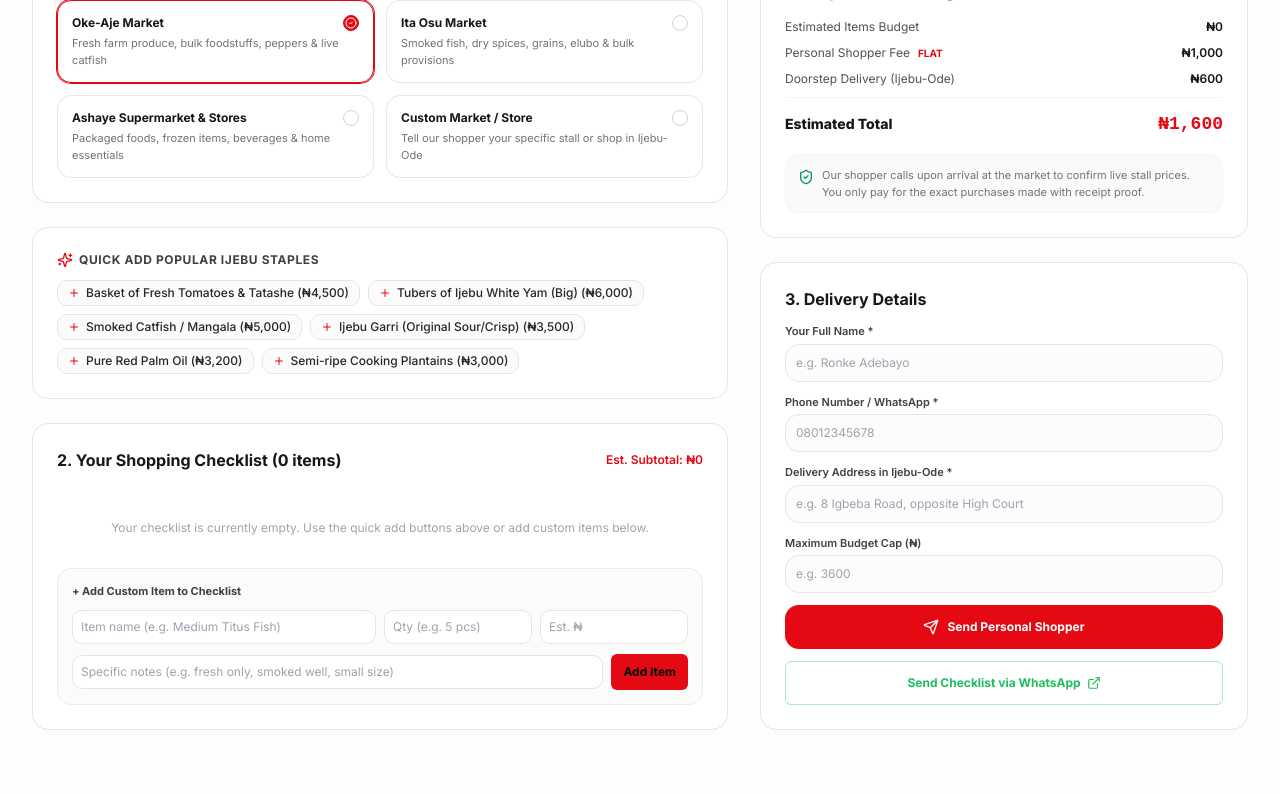
Test: PersonalShopperPage › allows adding custom items to the shopping checklist
(page scrolled)
Type "Fresh Ewedu Leaves" into the field with placeholder "Item name (e.g. Medium Titus Fish)" at (224,626), box x1=72 y1=610 x2=376 y2=644
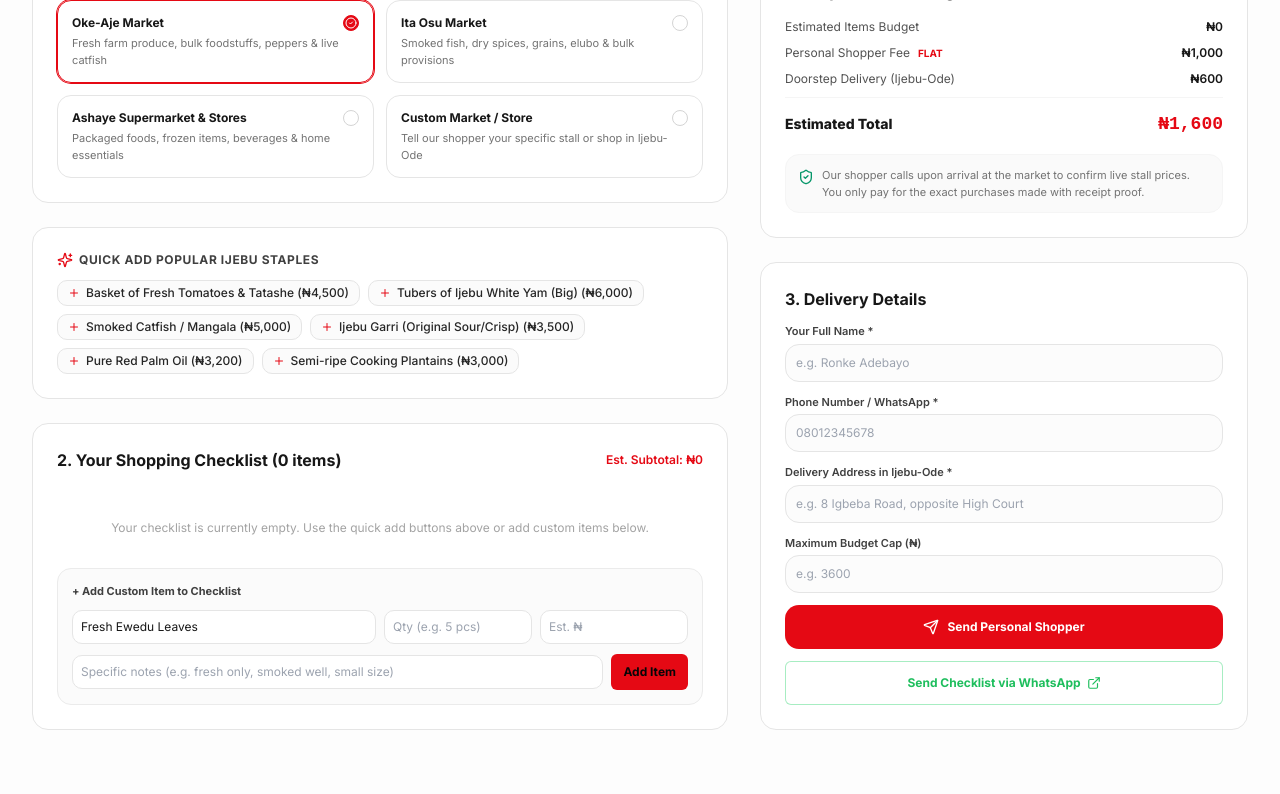
Click the button "Add Item" at (650,672), box x1=611 y1=654 x2=688 y2=690
(page scrolled)
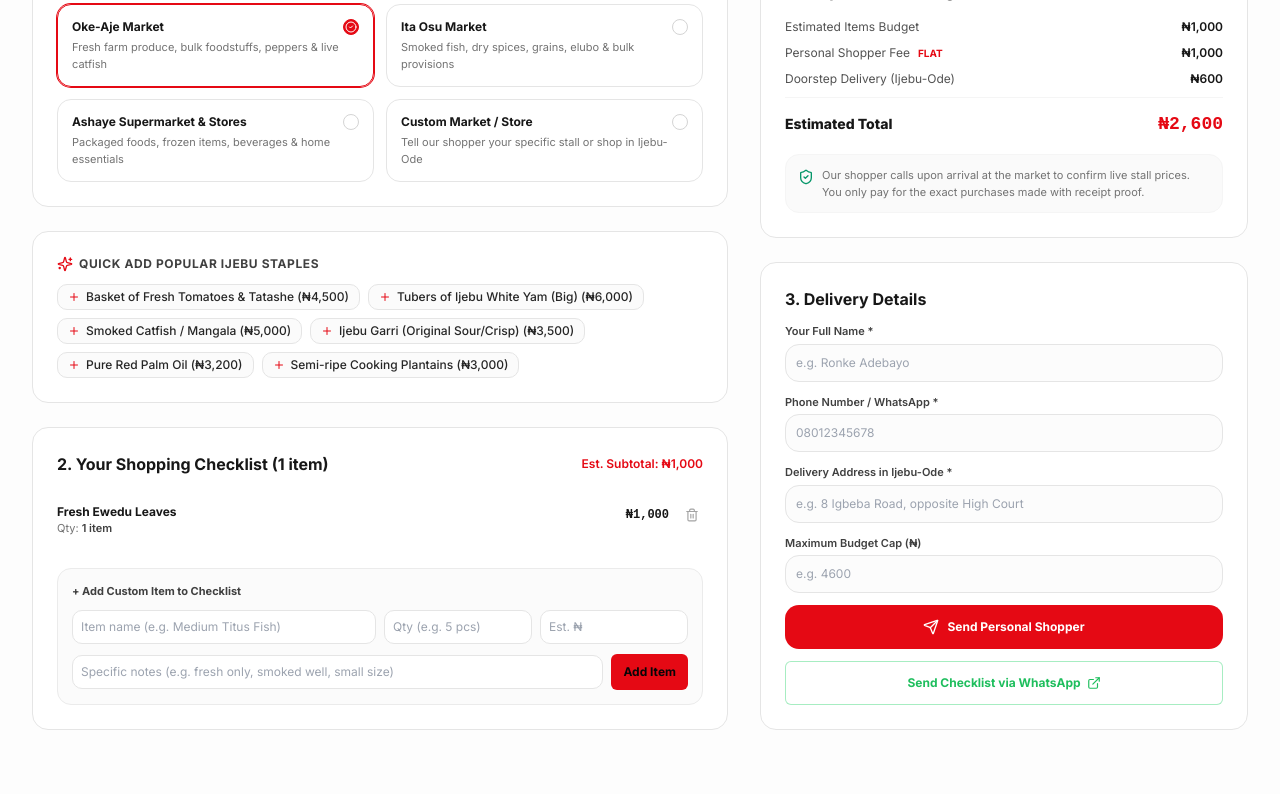
Expected: the text "Fresh Ewedu Leaves" is shown, x1=57 y1=504 x2=177 y2=520
